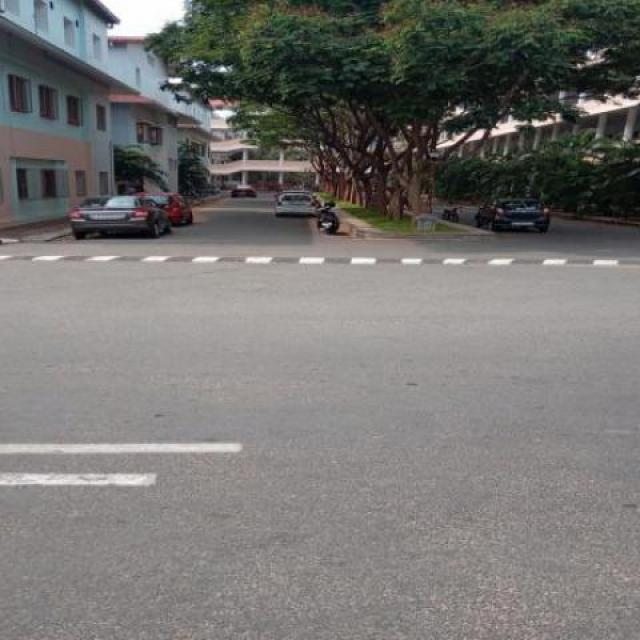Speed Bump: (0, 254, 639, 268)
